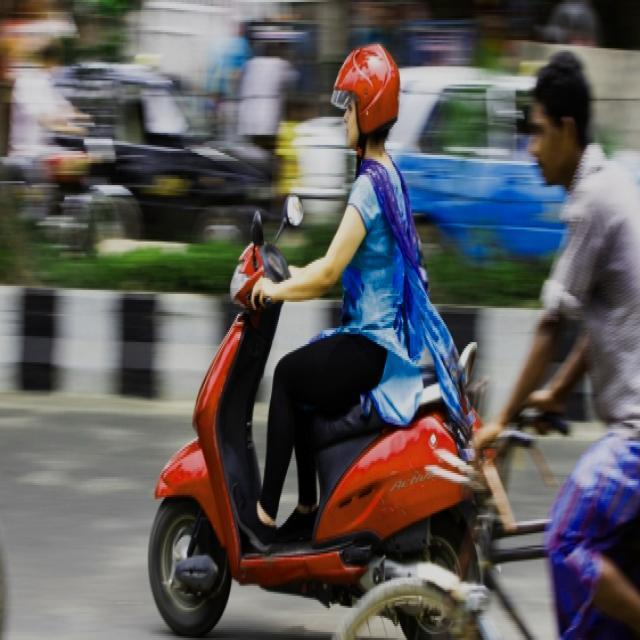Helmet: (331, 28, 401, 155)
